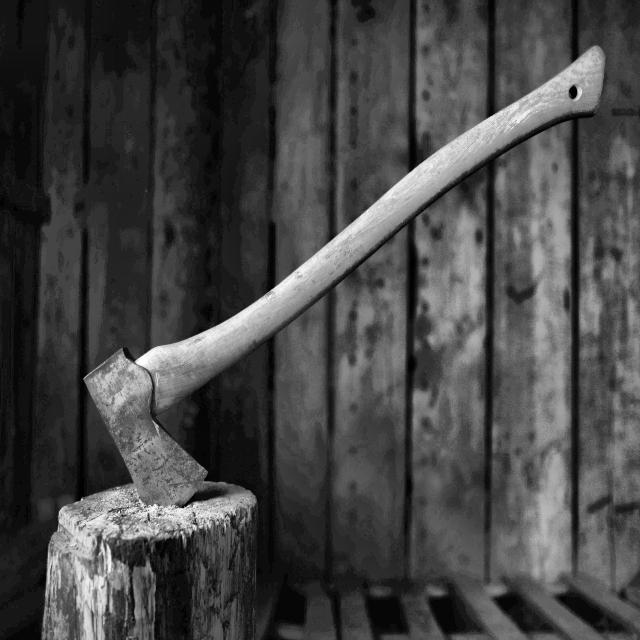kapak: (69, 27, 613, 533)
